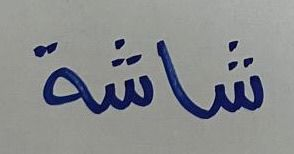alef: (157, 29, 200, 123)
sheen: (203, 38, 267, 120), (99, 37, 154, 118)
teh_marbota: (28, 39, 96, 117)
